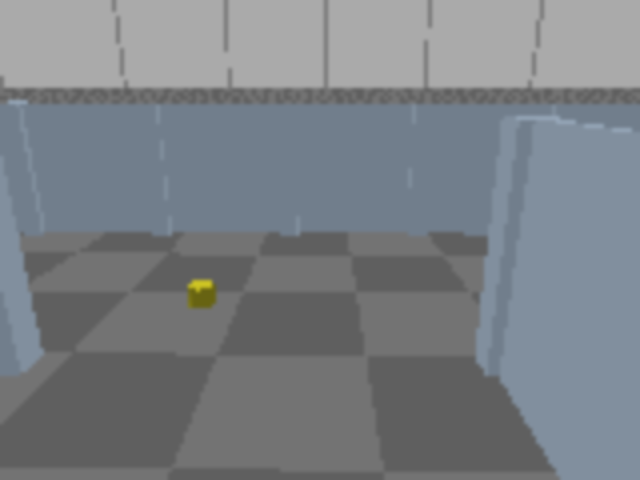puck: (187, 280, 215, 309)
